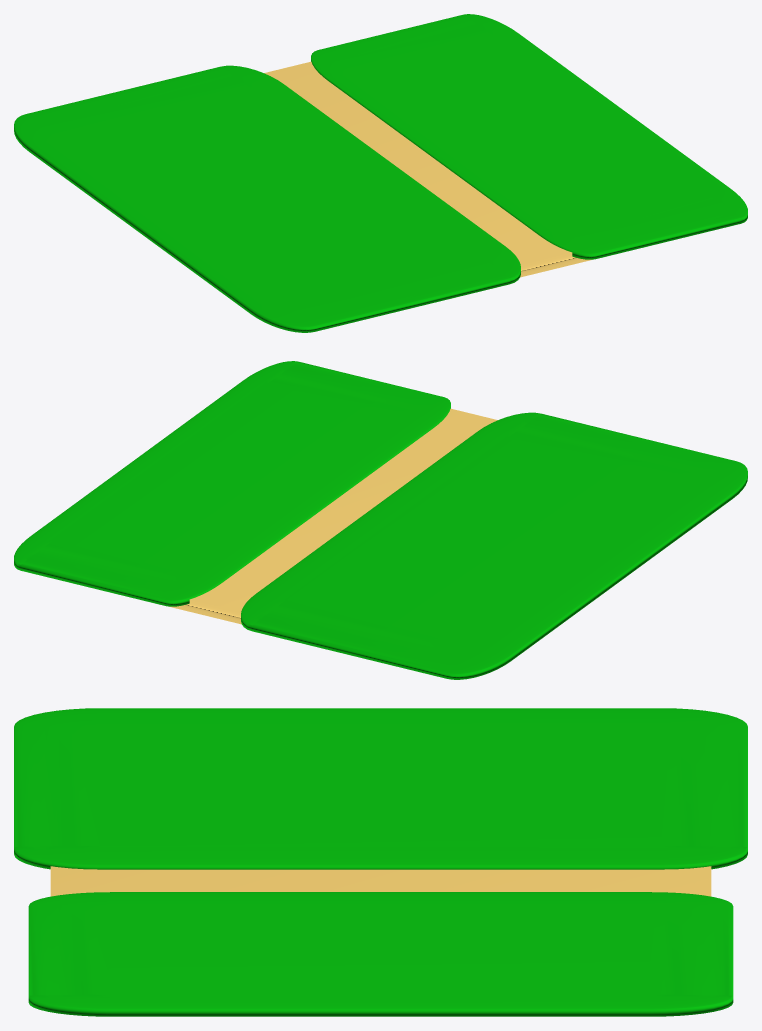
Rendered from grass.fbx.
The picture shows the model from 3 angles, top to bottom: view 1: azimuth 30°, elevation 25°; view 2: azimuth 150°, elevation 25°; view 3: azimuth 270°, elevation 25°; orthographic projection. The views are drawn at different scales.
Parts seen in each view (by area): view 1: Cube.002, Cube, Cube.001; view 2: Cube.002, Cube, Cube.001; view 3: Cube.002, Cube, Cube.001.
Boxes of the visible parts, x1,y1,x2,y2 form: Cube.002: [14, 65, 520, 332]; Cube: [311, 14, 747, 259]; Cube.001: [264, 61, 592, 277]; Cube.002: [241, 412, 747, 679]; Cube: [14, 361, 450, 606]; Cube.001: [169, 408, 497, 624]; Cube.002: [14, 708, 747, 869]; Cube: [28, 892, 733, 1016]; Cube.001: [50, 866, 711, 896].
Size of the model in its own units: 8206 by 263 by 8500.
